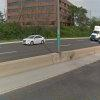Car: (20, 29, 49, 48)
